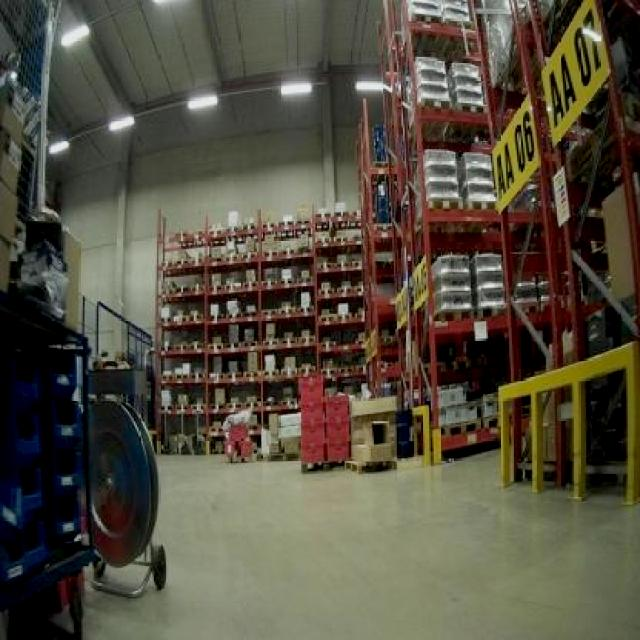pallets: (154, 208, 363, 451), (297, 374, 346, 468), (345, 395, 392, 469)
